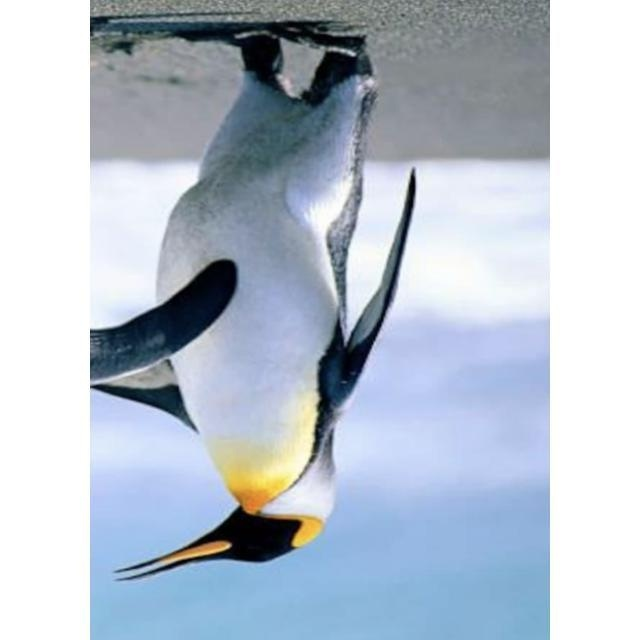penguin: (93, 25, 423, 582)
